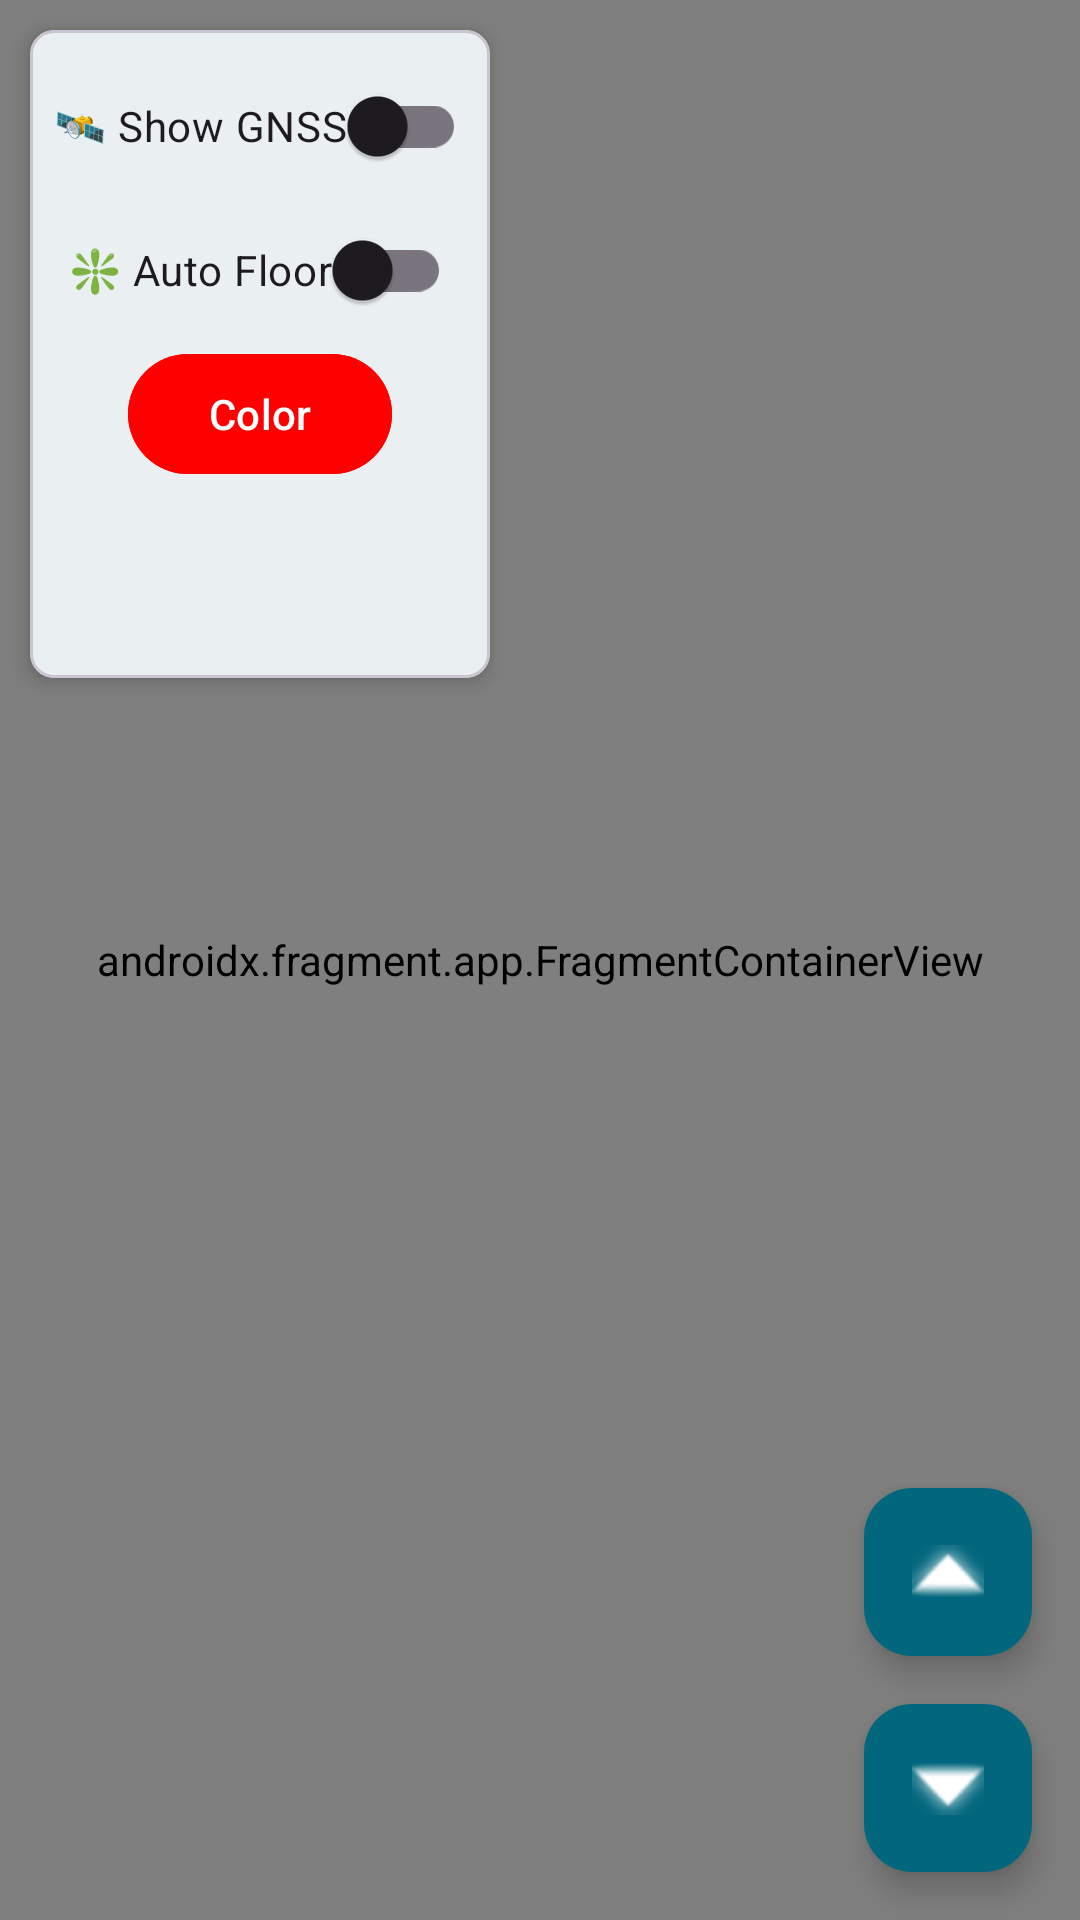

Where to tap for icons on this 1080w x 1920h app screen, as (x=x, y=y):
Floor down button: (x=948, y=1788)
Floor up button: (x=948, y=1572)
